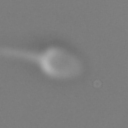normal: (1, 39, 42, 71)
